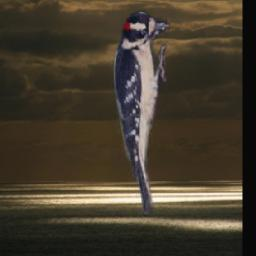Woodpecker: (112, 7, 171, 214)
